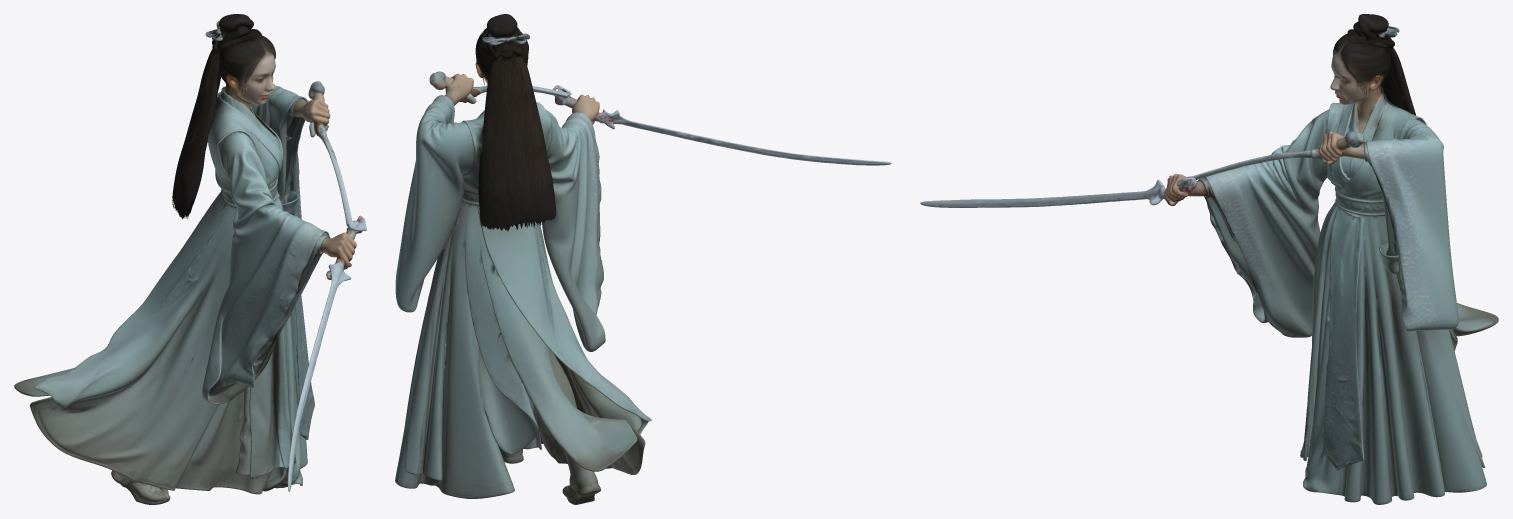
Rendered from zzr_hf.glb.
3 views of the same model, side by side, from view 1: azimuth 30°, elevation 25°; view 2: azimuth 150°, elevation 25°; view 3: azimuth 270°, elevation 25° (orthographic). The views are drawn at different scales.
Visible parts, largest first — view 1: node_0; view 2: node_0; view 3: node_0.
Part boxes in pixels (bbox=[...]): node_0: bbox=[14, 14, 366, 504]; node_0: bbox=[395, 14, 891, 504]; node_0: bbox=[920, 14, 1498, 504].
Size of the model in its own units: 0.4874 by 0.8298 by 0.9246.
Materials: 1 (1 with a texture image).
